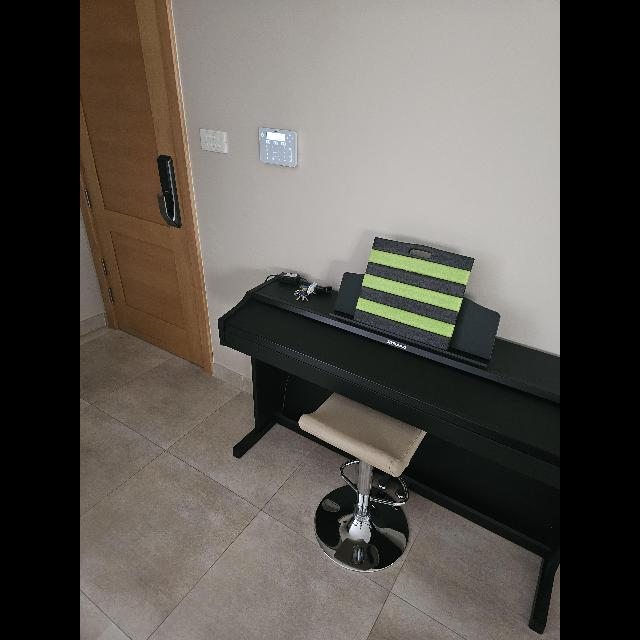Keys: (295, 282, 319, 302)
